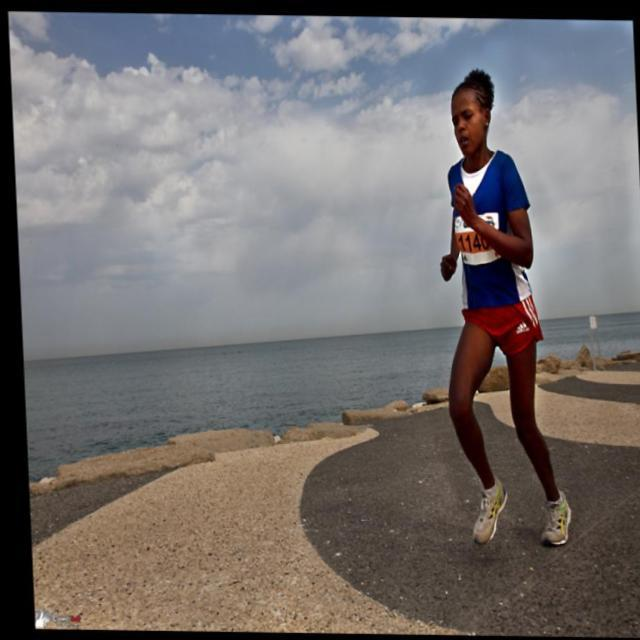dorsal: (448, 208, 504, 265)
